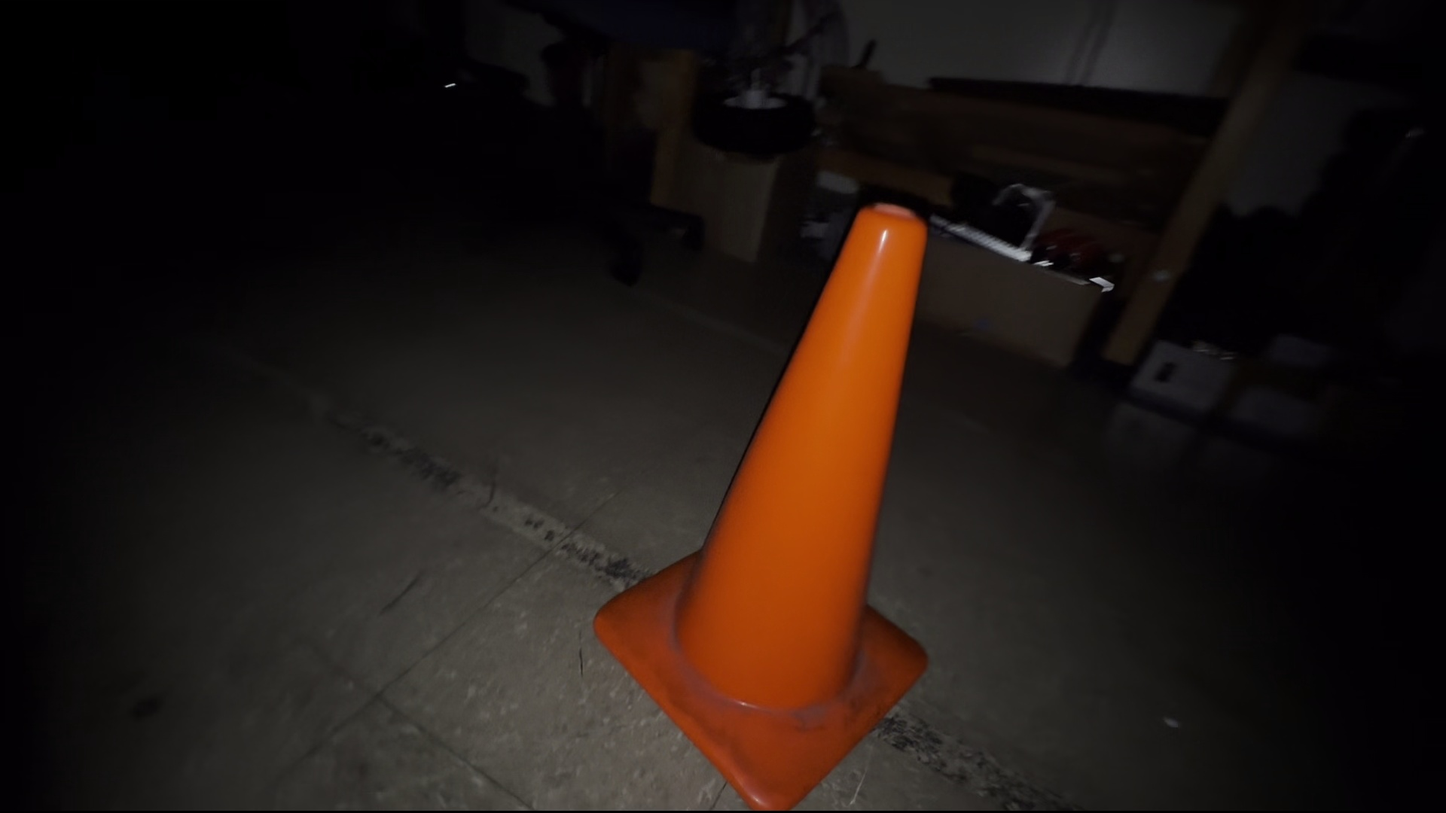traffic_cone: (592, 201, 932, 811)
